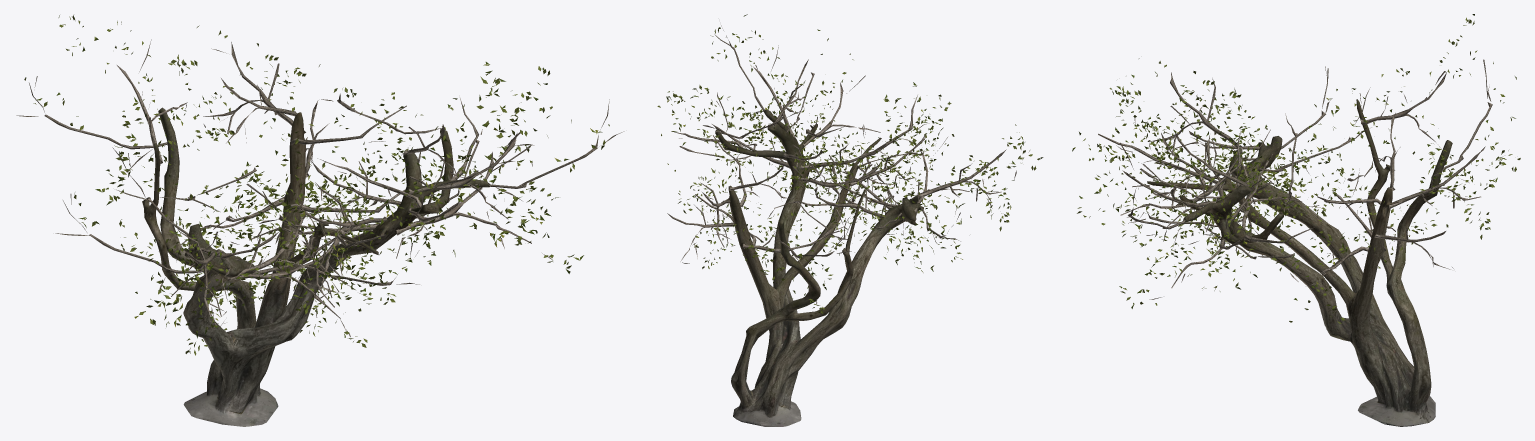
File: cay-ven-bien-2.glb
The picture shows the model from 3 angles, left to right: view 1: azimuth 30°, elevation 25°; view 2: azimuth 150°, elevation 25°; view 3: azimuth 270°, elevation 25°; orthographic projection. The views are drawn at different scales.
Parts seen in each view (by area): view 1: island_tree_02_LOD0; view 2: island_tree_02_LOD0; view 3: island_tree_02_LOD0.
Part boxes in pixels (bbox=[...]): island_tree_02_LOD0: bbox=[16, 15, 624, 426]; island_tree_02_LOD0: bbox=[657, 14, 1043, 426]; island_tree_02_LOD0: bbox=[1072, 14, 1520, 426].
Size of the model in its own units: 0.9581 by 0.7937 by 0.9484.
3 materials, 3 textured.
